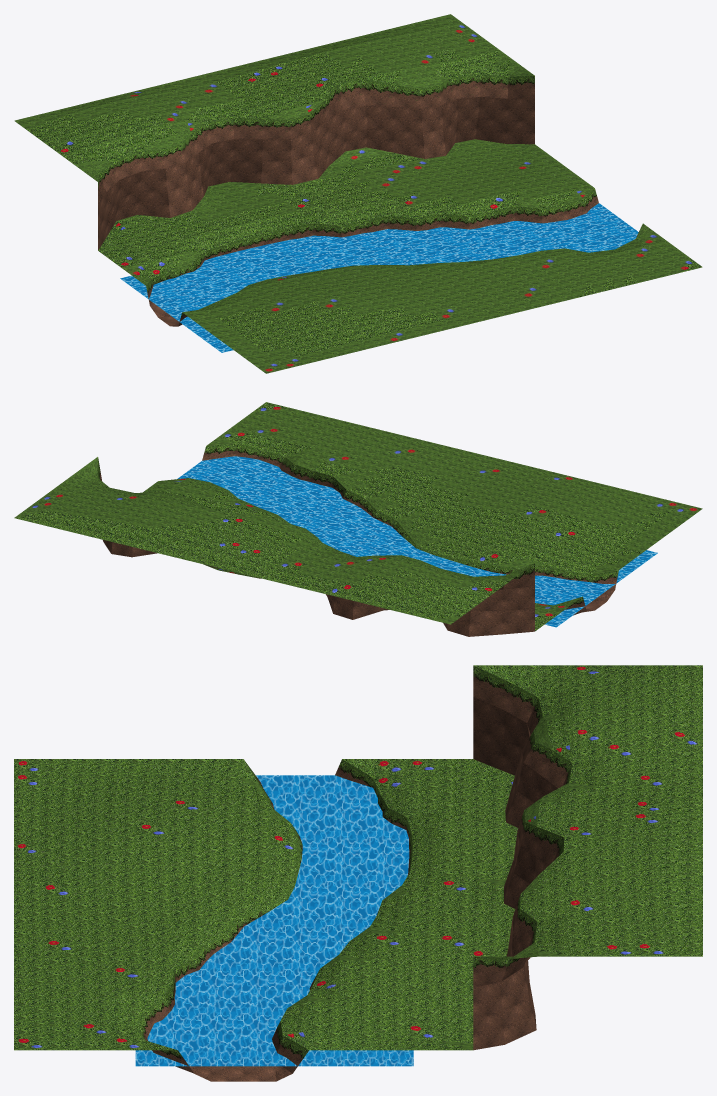
The model's file is terreno.gltf.
3 views of the same model, one above another, from view 1: azimuth 30°, elevation 25°; view 2: azimuth 150°, elevation 25°; view 3: azimuth 270°, elevation 25° (orthographic). The views are drawn at different scales.
Parts seen in each view (by area): view 1: Grade.001, Grade, Plane; view 2: Grade.001, Plane, Grade; view 3: Grade.001, Plane, Grade.
Part boxes in pixels (left/top/right/bottom): Grade.001: left=14, top=14, right=702, bottom=373; Grade: left=98, top=74, right=639, bottom=326; Plane: left=120, top=203, right=638, bottom=352; Grade.001: left=14, top=402, right=702, bottom=631; Plane: left=177, top=456, right=657, bottom=627; Grade: left=97, top=443, right=618, bottom=636; Grade.001: left=14, top=665, right=702, bottom=1050; Plane: left=135, top=775, right=413, bottom=1066; Grade: left=138, top=665, right=572, bottom=1081.
Size of the model in its own units: 20 by 4.47 by 20.
Materials: 2 (2 with a texture image).
